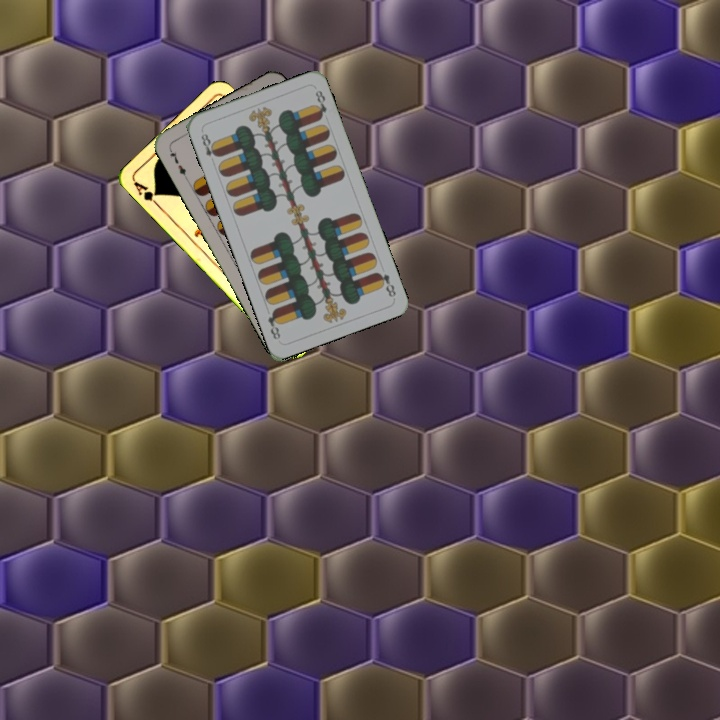E7: (165, 144, 190, 182)
E8: (372, 268, 398, 300), (197, 129, 221, 160)
GA: (129, 177, 162, 210)
